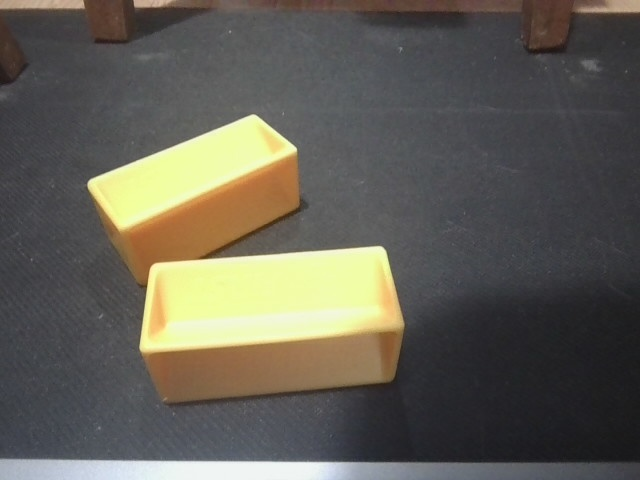YellowSample: (138, 243, 408, 404), (82, 110, 304, 287)
